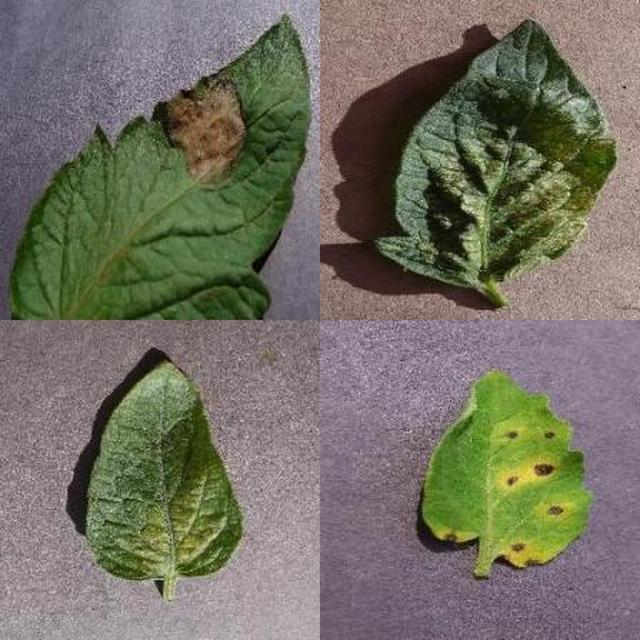Late Blight Leaf: (222, 221, 640, 640)
